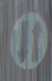Two way: (4, 5, 46, 69)
